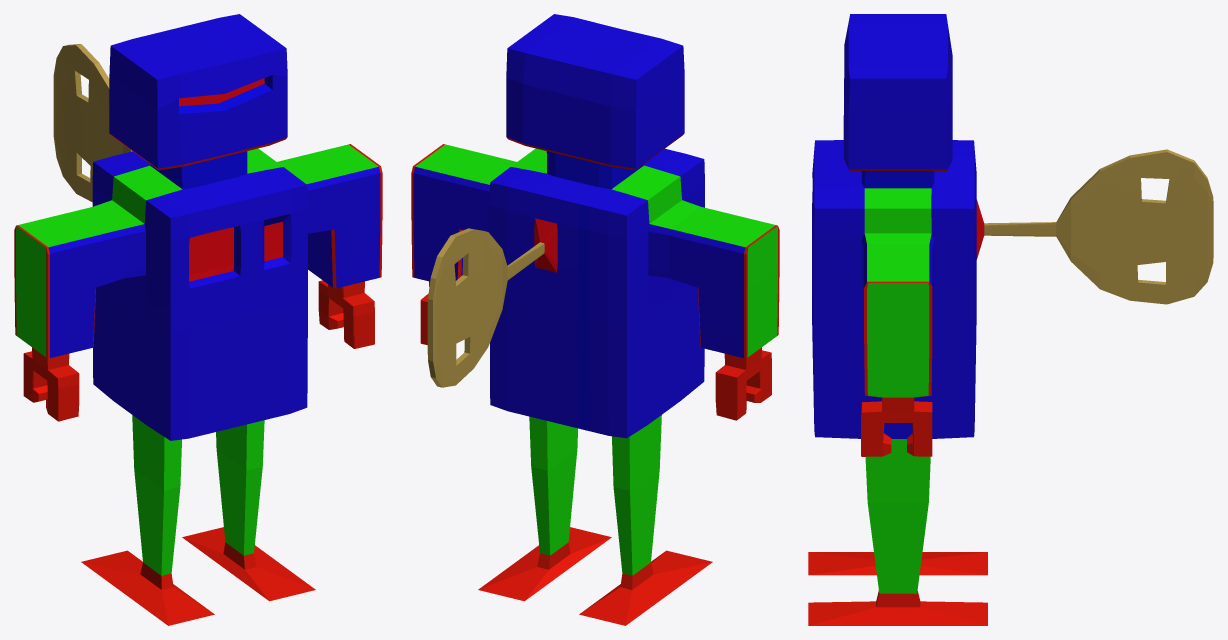
File: Toybot.fbx
The picture shows the model from 3 angles, left to right: view 1: azimuth 30°, elevation 25°; view 2: azimuth 150°, elevation 25°; view 3: azimuth 270°, elevation 25°; orthographic projection. The views are drawn at different scales.
Visible parts, largest first — view 1: Cube, Arm.R, Arm.L, Leg.R, Leg.L, Key; view 2: Cube, Arm.R, Key, Leg.R, Leg.L, Arm.L; view 3: Cube, Key, Arm.L, Leg.L, Leg.R.
Boxes of the visible parts, <box> form: Cube: <box>92,14,307,440</box>; Arm.R: <box>14,200,145,421</box>; Arm.L: <box>277,144,382,348</box>; Leg.R: <box>81,415,214,625</box>; Leg.L: <box>182,420,315,601</box>; Key: <box>53,44,132,202</box>; Cube: <box>489,14,704,438</box>; Arm.R: <box>648,200,779,420</box>; Key: <box>427,228,544,387</box>; Leg.R: <box>579,415,712,625</box>; Leg.L: <box>478,416,611,601</box>; Arm.L: <box>411,144,516,344</box>; Cube: <box>812,14,984,438</box>; Key: <box>984,149,1213,304</box>; Arm.L: <box>861,233,934,456</box>; Leg.L: <box>808,439,987,625</box>; Leg.R: <box>808,552,987,575</box>.
Bounding box in the file's own units: 482 × 729 × 492.
